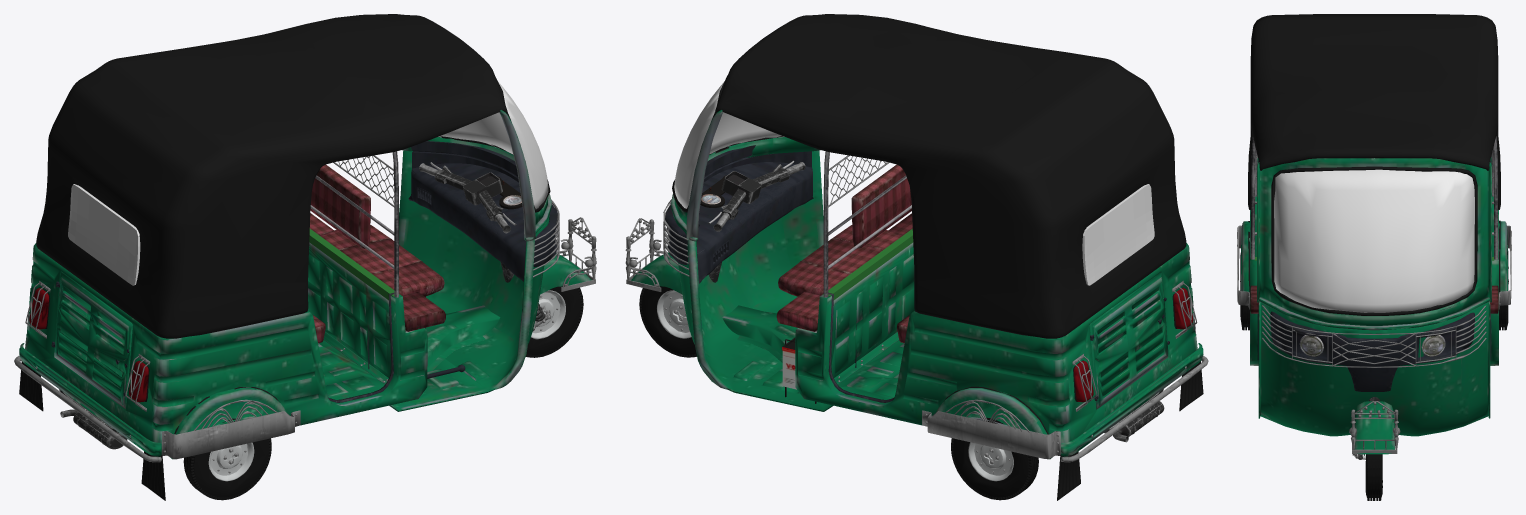
File: cng.glb
3 renders of one model, left to right at view 1: azimuth 30°, elevation 25°; view 2: azimuth 150°, elevation 25°; view 3: azimuth 270°, elevation 25°, orthographic. The views are drawn at different scales.
Parts seen in each view (by area): view 1: hood_Hood_0, rear mud guard_main base_0, Front bumper_Bumper and safety_0, Seat_Seat_0, switch_Dash_0, front glass _glass_0, Tire_Tire_0, Rim_Rim_0, mud flap_Rubber flap_0, Steering_Steer_0, engine cover support_Black plastic_0, hood support_Frame support_0 (+3 smaller); view 2: hood_Hood_0, rear mud guard_main base_0, Front bumper_Bumper and safety_0, Seat_Seat_0, front glass _glass_0, switch_Dash_0, Tire_Tire_0, Rim_Rim_0, mud flap_Rubber flap_0, Steering_Steer_0, hood support_Frame support_0, engine cover support_Black plastic_0 (+4 smaller); view 3: hood_Hood_0, rear mud guard_main base_0, front glass _glass_0, engine cover support_Black plastic_0, Front bumper_Bumper and safety_0, mud flap_Rubber flap_0, Tire_Tire_0, hood support_Frame support_0, battery_Material.003_0, Seat_Seat_0.
Part boxes in pixels (left/top/right/bottom): hood_Hood_0: left=36, top=14, right=507, bottom=338; rear mud guard_main base_0: left=19, top=110, right=591, bottom=459; Front bumper_Bumper and safety_0: left=14, top=155, right=596, bottom=462; Seat_Seat_0: left=309, top=164, right=445, bottom=343; switch_Dash_0: left=408, top=141, right=534, bottom=281; front glass _glass_0: left=68, top=81, right=548, bottom=285; Tire_Tire_0: left=183, top=286, right=583, bottom=500; Rim_Rim_0: left=208, top=290, right=565, bottom=481; mud flap_Rubber flap_0: left=19, top=78, right=550, bottom=500; Steering_Steer_0: left=419, top=162, right=516, bottom=233; engine cover support_Black plastic_0: left=51, top=204, right=559, bottom=402; hood support_Frame support_0: left=310, top=151, right=398, bottom=297; hood_Hood_0: left=715, top=14, right=1186, bottom=338; rear mud guard_main base_0: left=631, top=110, right=1203, bottom=459; Front bumper_Bumper and safety_0: left=625, top=155, right=1208, bottom=462; Seat_Seat_0: left=776, top=164, right=912, bottom=343; front glass _glass_0: left=674, top=81, right=1154, bottom=285; switch_Dash_0: left=676, top=145, right=813, bottom=283; Tire_Tire_0: left=639, top=286, right=1038, bottom=500; Rim_Rim_0: left=657, top=290, right=1013, bottom=481; mud flap_Rubber flap_0: left=672, top=75, right=1203, bottom=500; Steering_Steer_0: left=708, top=160, right=805, bottom=231; hood support_Frame support_0: left=823, top=151, right=911, bottom=297; engine cover support_Black plastic_0: left=665, top=205, right=1169, bottom=402; hood_Hood_0: left=1248, top=14, right=1500, bottom=209; rear mud guard_main base_0: left=1241, top=157, right=1507, bottom=454; front glass _glass_0: left=1274, top=169, right=1474, bottom=312; engine cover support_Black plastic_0: left=1257, top=160, right=1491, bottom=391; Front bumper_Bumper and safety_0: left=1237, top=154, right=1511, bottom=453; mud flap_Rubber flap_0: left=1240, top=166, right=1508, bottom=315; Tire_Tire_0: left=1240, top=248, right=1508, bottom=500; hood support_Frame support_0: left=1250, top=136, right=1498, bottom=259; battery_Material.003_0: left=1299, top=335, right=1445, bottom=356; Seat_Seat_0: left=1250, top=285, right=1498, bottom=313.
Bounding box in the file's own units: 2.5 × 1.6 × 1.27.
Materials: 23 (14 with a texture image).
